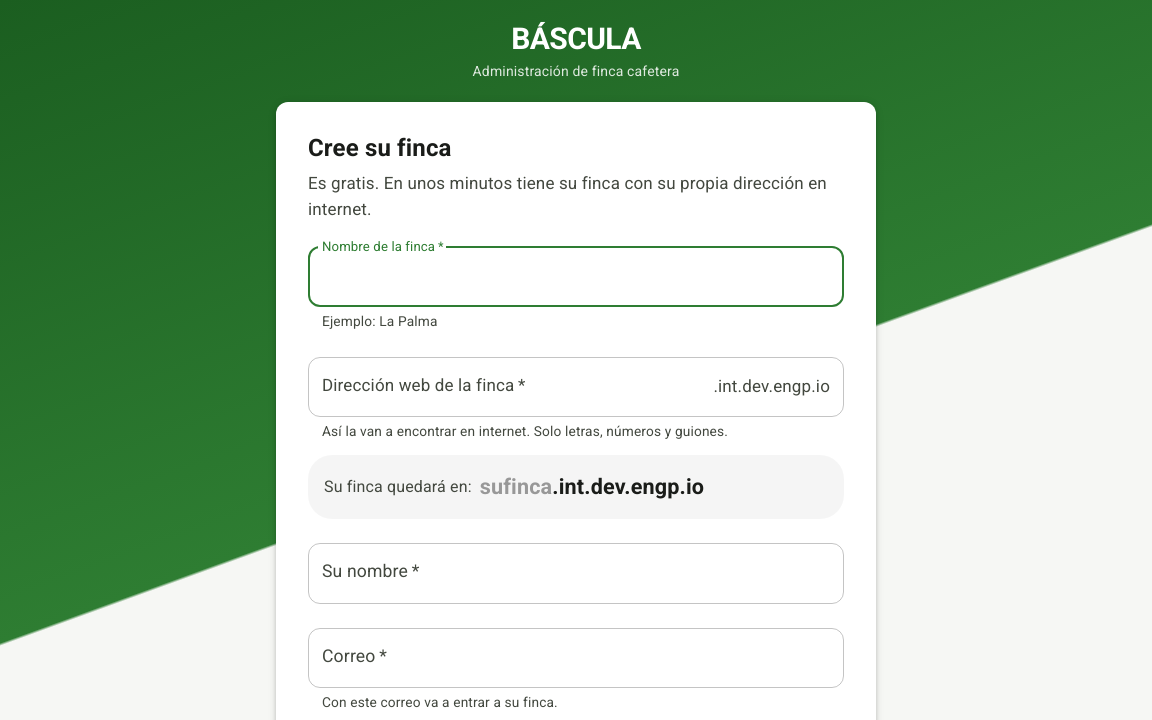
Cree su finca — the farm's web address › says in plain Spanish when another farm already has the address
The image size is (1152, 720).
Type "la-esperanza" into the field labelled "Dirección web de la finca *" at {"x": 507, "y": 387}, box [308,356,705,417]
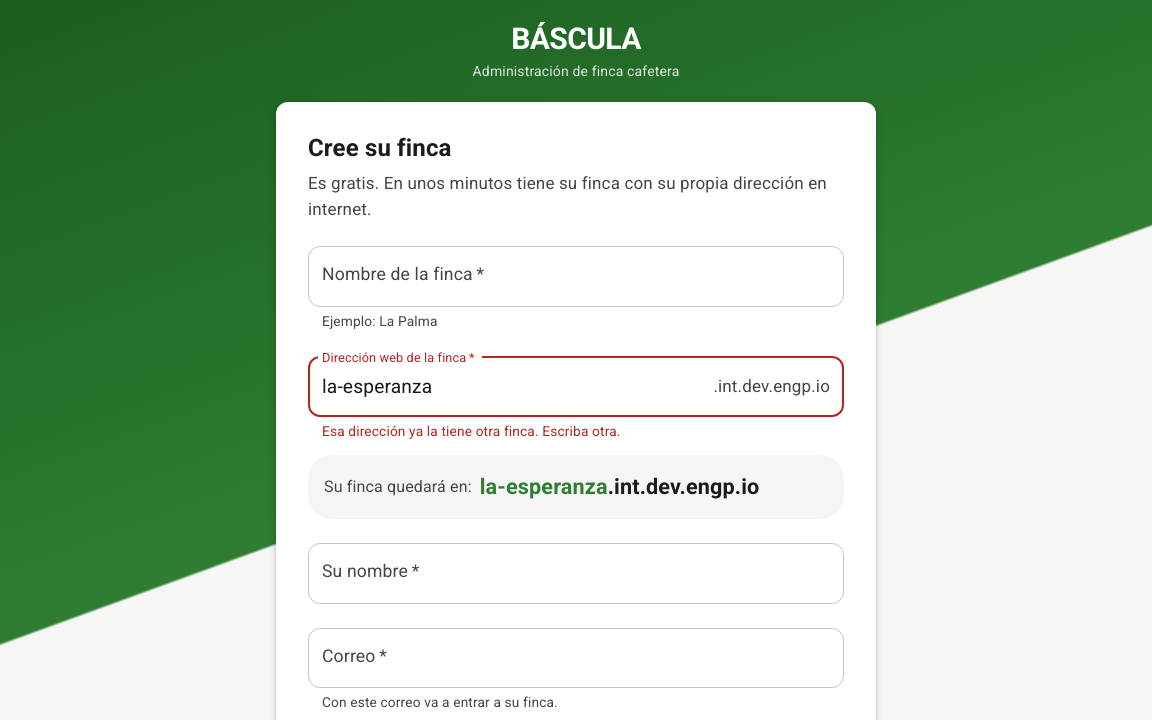
Expected: the text "Esa dirección ya la tiene otra finca. Escriba otra." is shown, [322,423,620,439]
